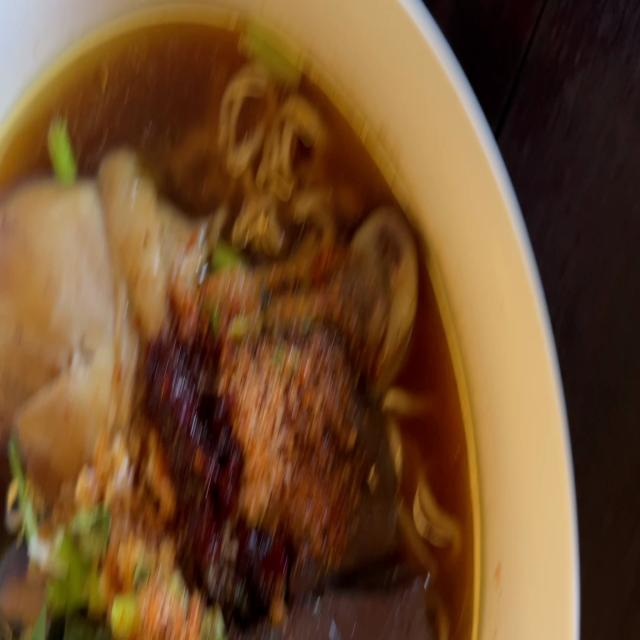noodle: (0, 0, 481, 640)
